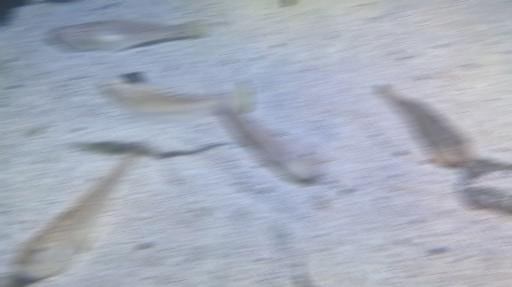Fish: (11, 140, 142, 280), (377, 84, 474, 167), (221, 106, 326, 180), (99, 76, 250, 123), (47, 21, 206, 52)
